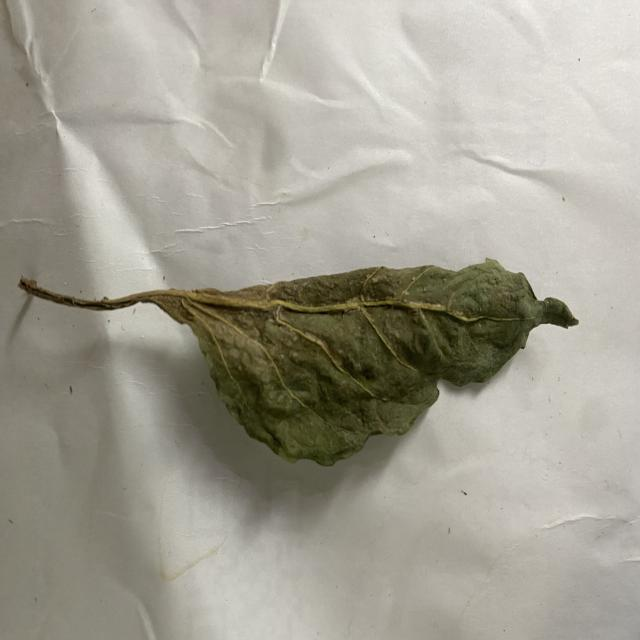Leaf: (156, 255, 581, 469)
